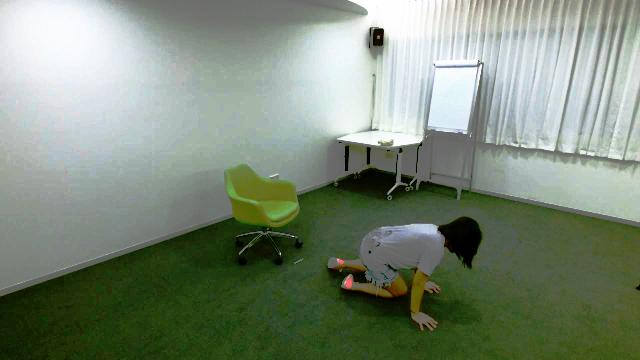jatuh: (322, 206, 486, 338)
